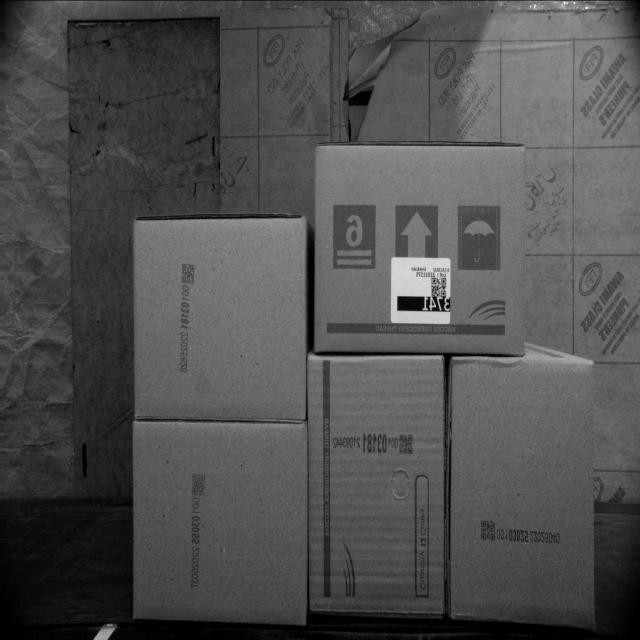cardboxes: (313, 144, 525, 353), (447, 356, 593, 621), (130, 415, 310, 626), (307, 353, 445, 620), (130, 218, 308, 421)
